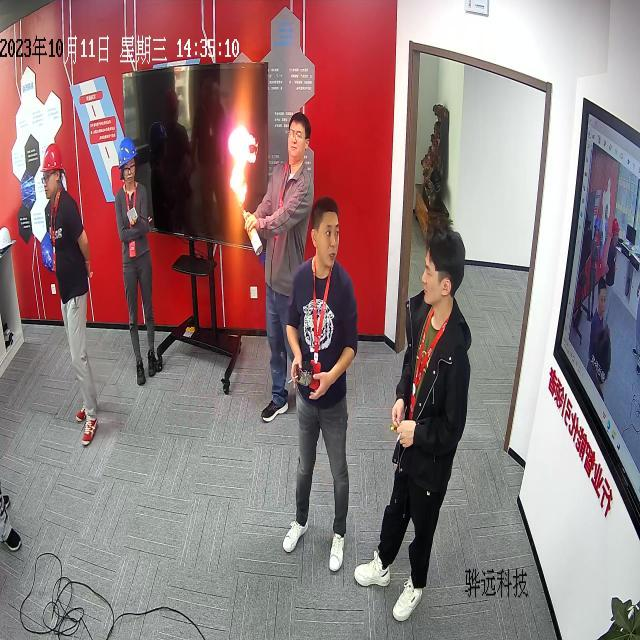Fire: (228, 125, 258, 206)
